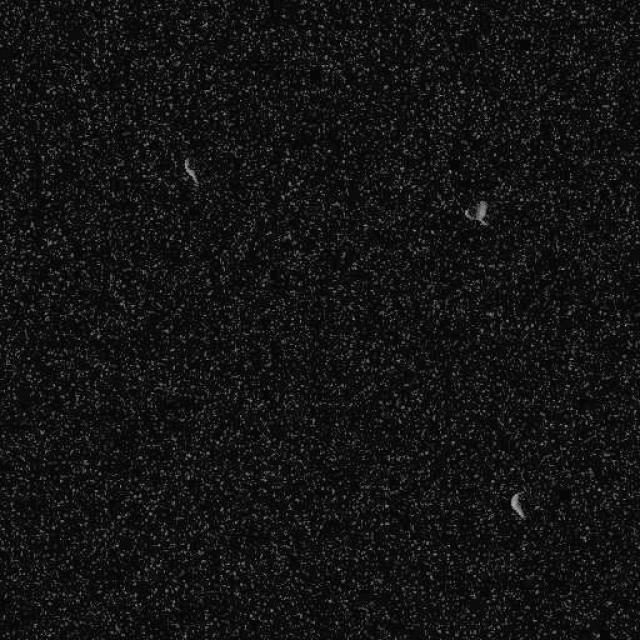D2: (462, 199, 488, 225), (181, 155, 199, 186), (509, 490, 526, 520)
